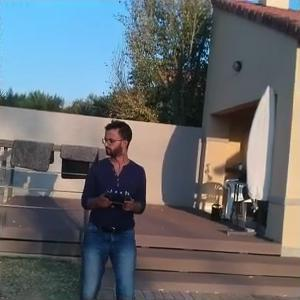follow: (76, 116, 151, 299)
